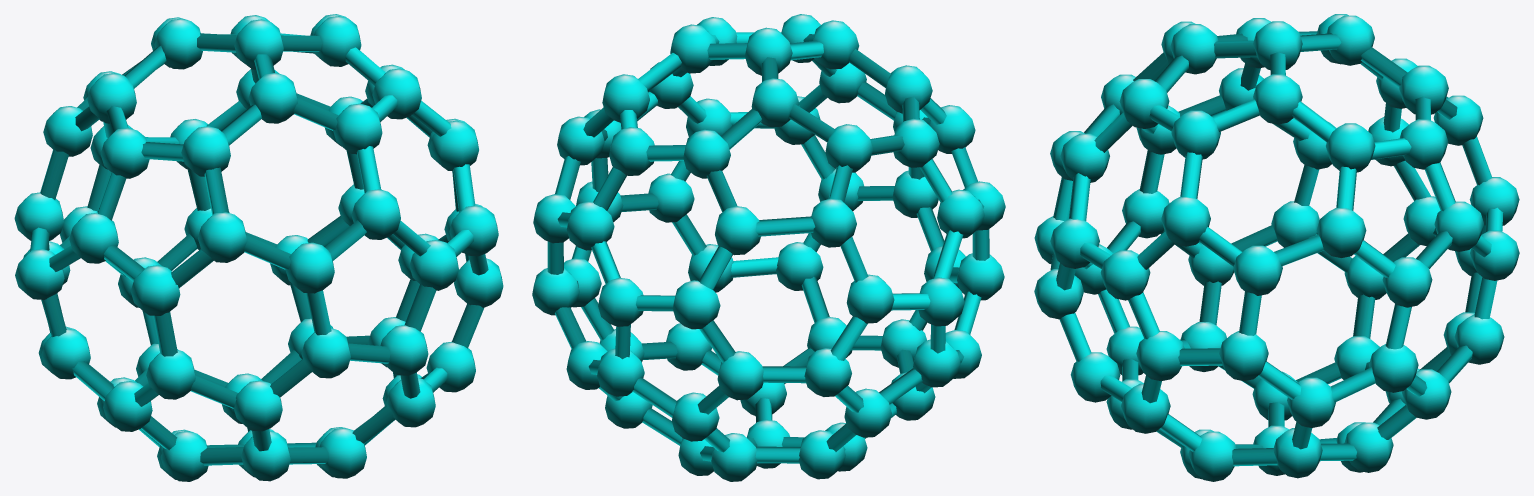
The model's file is Fullerene.dae.
3 views of the same model, side by side, from view 1: azimuth 30°, elevation 25°; view 2: azimuth 150°, elevation 25°; view 3: azimuth 270°, elevation 25° (orthographic). The views are drawn at different scales.
Visible parts, largest first — view 1: polySurface309; view 2: polySurface309; view 3: polySurface309.
Part boxes in pixels (left/top/right/bottom): polySurface309: left=14, top=14, right=503, bottom=481; polySurface309: left=532, top=14, right=1005, bottom=481; polySurface309: left=1034, top=14, right=1519, bottom=481.
Size of the model in its own units: 11.35 by 11.34 by 11.08.
Materials: 1 (1 with a texture image).
